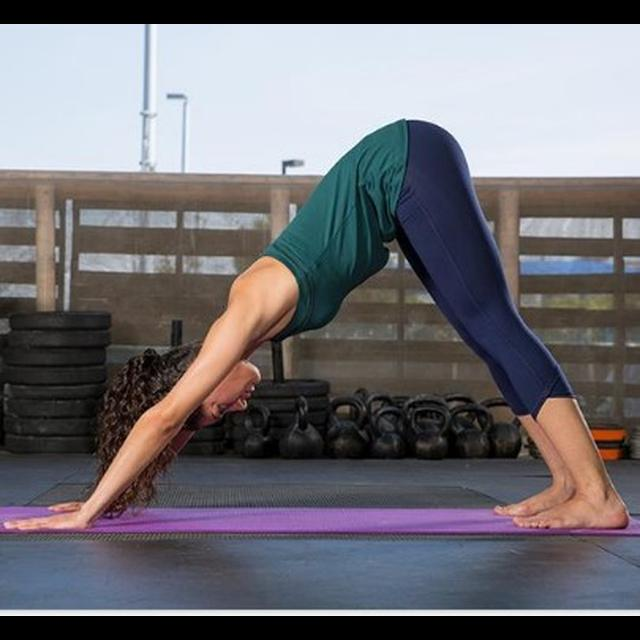Downward-Facing_Dog: (1, 113, 640, 537)
